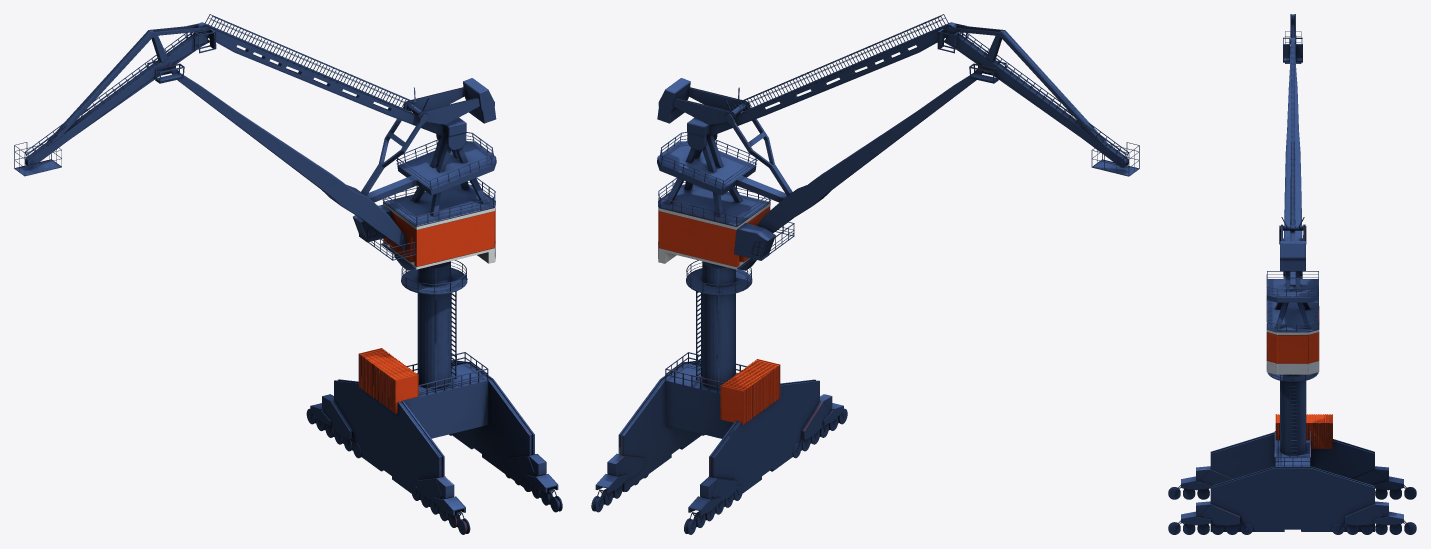
File: LLC_002.glb
3 views of the same model, side by side, from view 1: azimuth 30°, elevation 25°; view 2: azimuth 150°, elevation 25°; view 3: azimuth 270°, elevation 25° (orthographic). The views are drawn at different scales.
Parts seen in each view (by area): view 1: LLC_002; view 2: LLC_002; view 3: LLC_002.
Part boxes in pixels (x1,y1,x2,y2): LLC_002: (14, 14, 562, 534); LLC_002: (591, 14, 1139, 534); LLC_002: (1168, 14, 1416, 534).
Size of the model in its own units: 51.57 by 53.22 by 30.29.
1 material, 1 textured.
